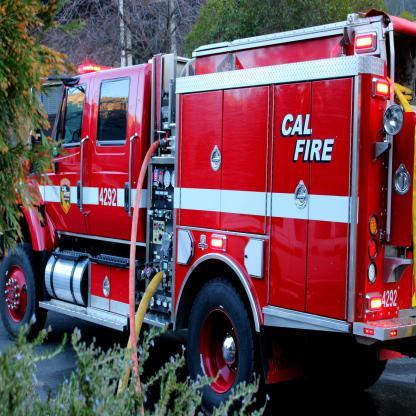fire-truck: (21, 9, 416, 399)
